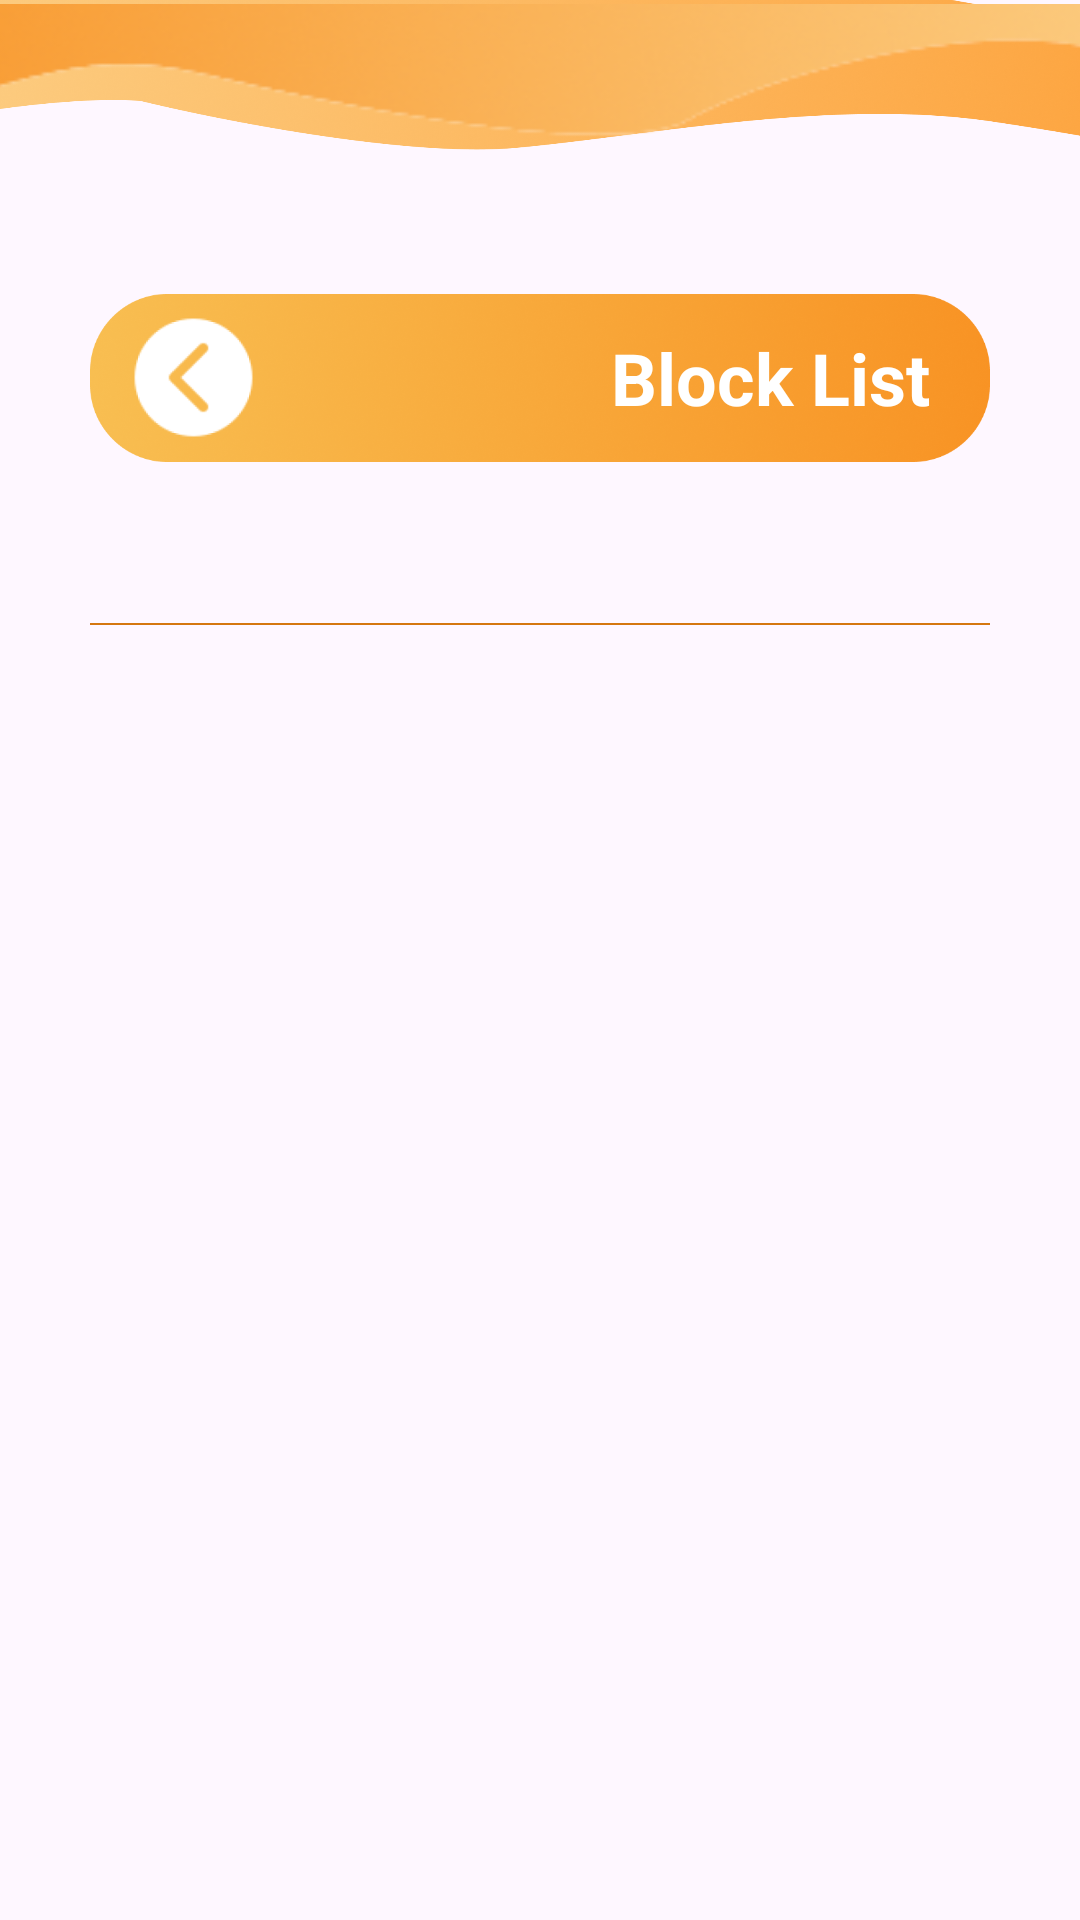

Icon click points for this 1080×1920 phone screenshot, format (x,y):
backto: (193,377)
